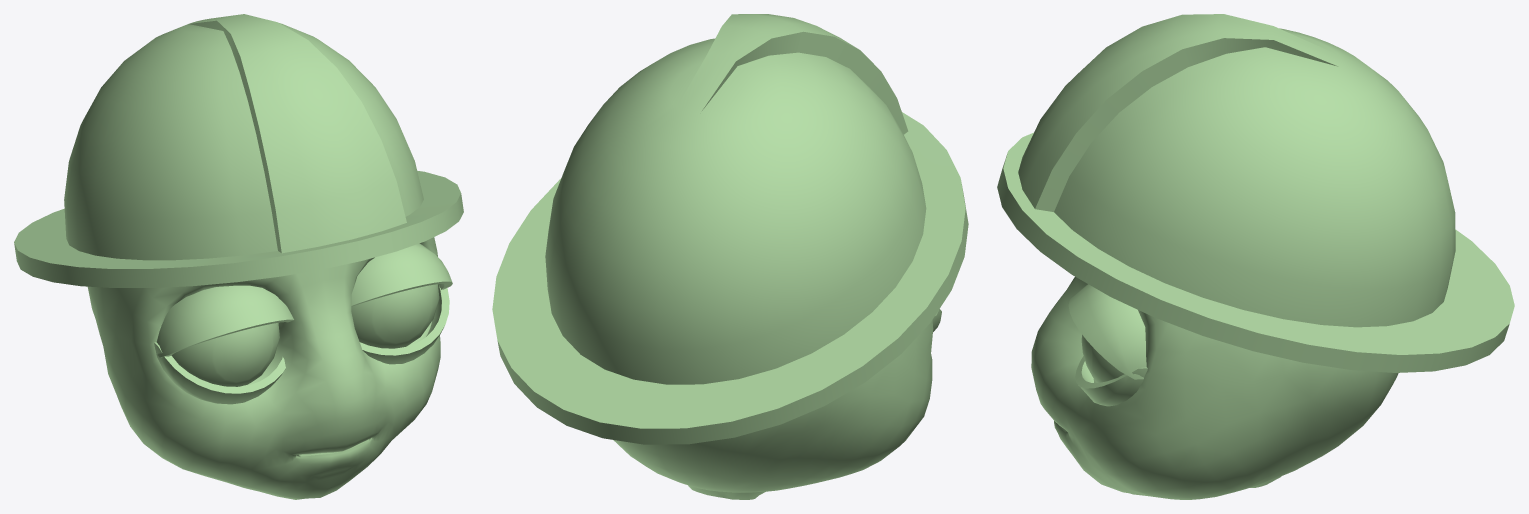
File: SM_ FE_Char_alien_Head.fbx
3 renders of one model, left to right at view 1: azimuth 30°, elevation 25°; view 2: azimuth 150°, elevation 25°; view 3: azimuth 270°, elevation 25°, orthographic. The views are drawn at different scales.
Parts seen in each view (by area): view 1: Head; view 2: Head; view 3: Head.
Part boxes in pixels (x1=…): Head: x1=14, y1=14, x2=463, y2=499; Head: x1=492, y1=14, x2=968, y2=499; Head: x1=997, y1=14, x2=1514, y2=499.
Size of the model in its own units: 74.56 by 83.68 by 85.11.
